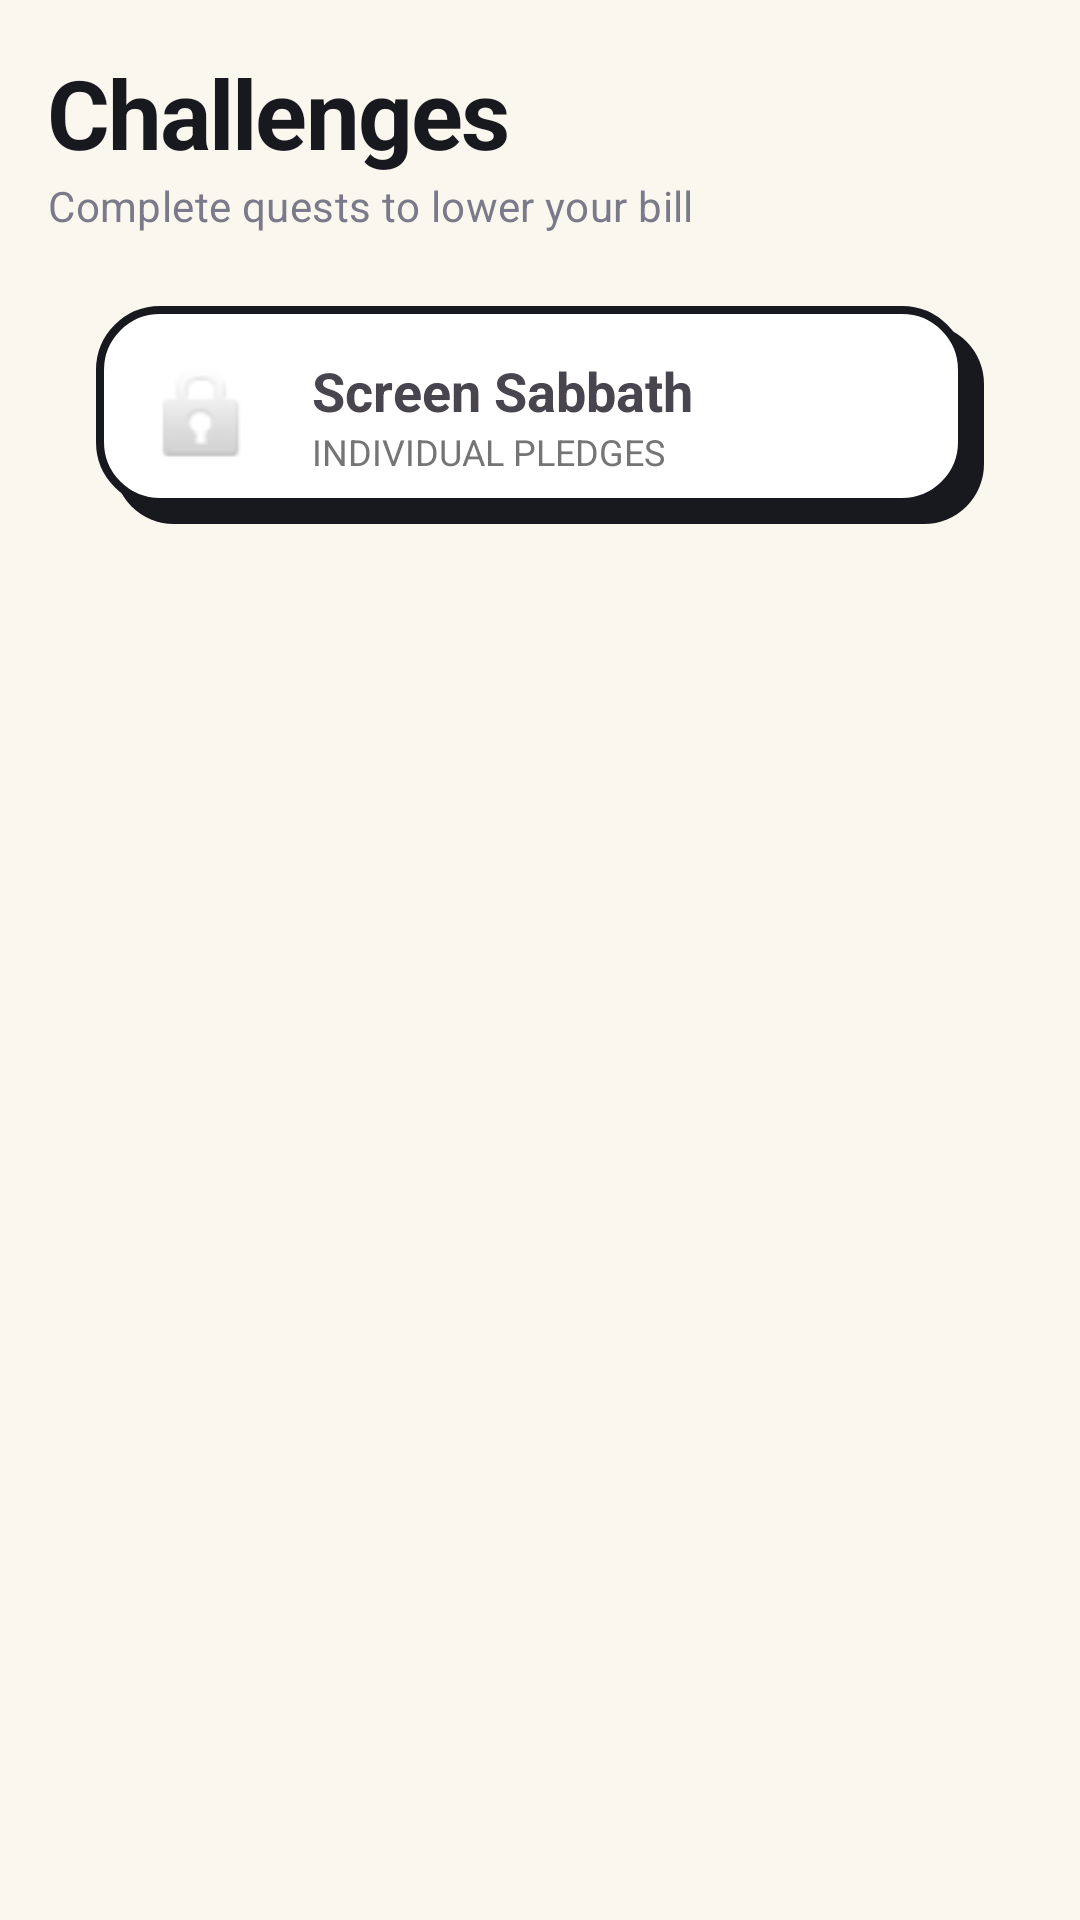

Named icons in this screenshot (1080*1920) and their bounding boxes, (x1, y1, x2, y2):
lock idle: (163, 405, 239, 456)
